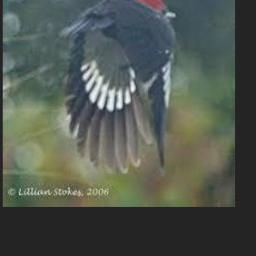Woodpecker: (59, 0, 176, 177)
